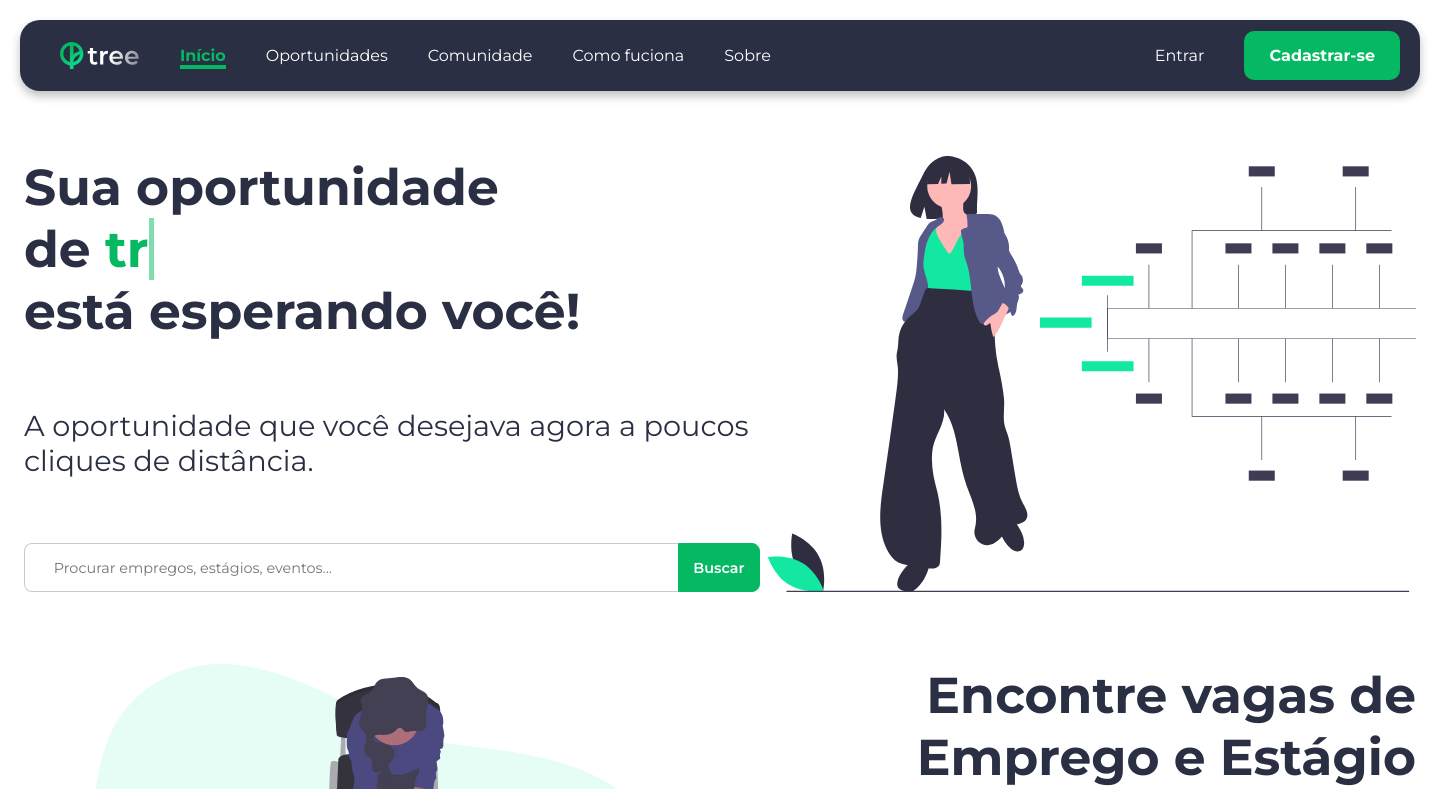
Fluxo navbar › Checar pagína de Oportunidades
Click the link with test id "goOportunities". click: (327, 56)
box: [266, 46, 388, 65]
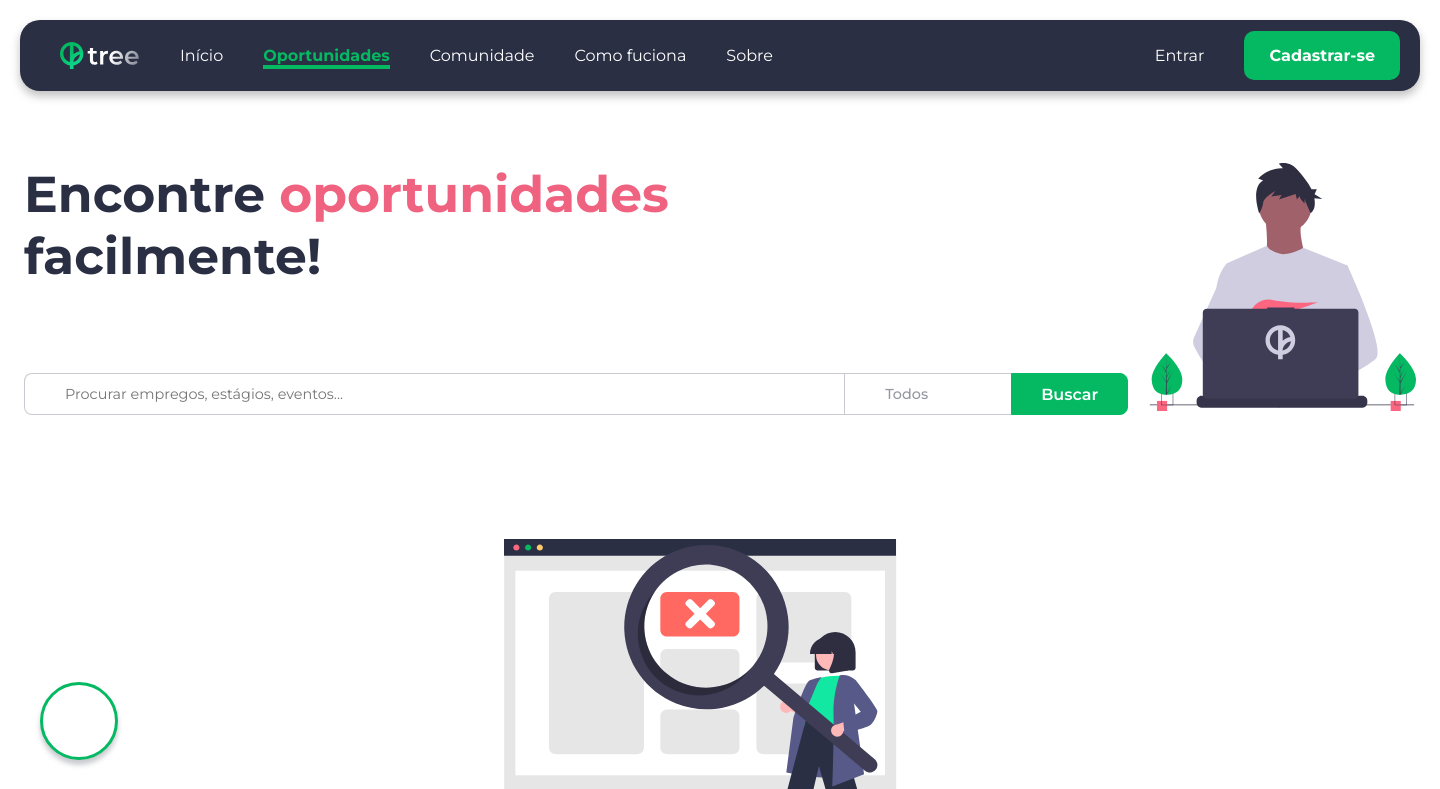
Expected: the text "oportunidades" is shown, [279, 163, 669, 225]
Expected: the heading "Encontre" is shown, [24, 163, 279, 225]
Expected: the heading "facilmente!" is shown, [24, 225, 321, 287]
